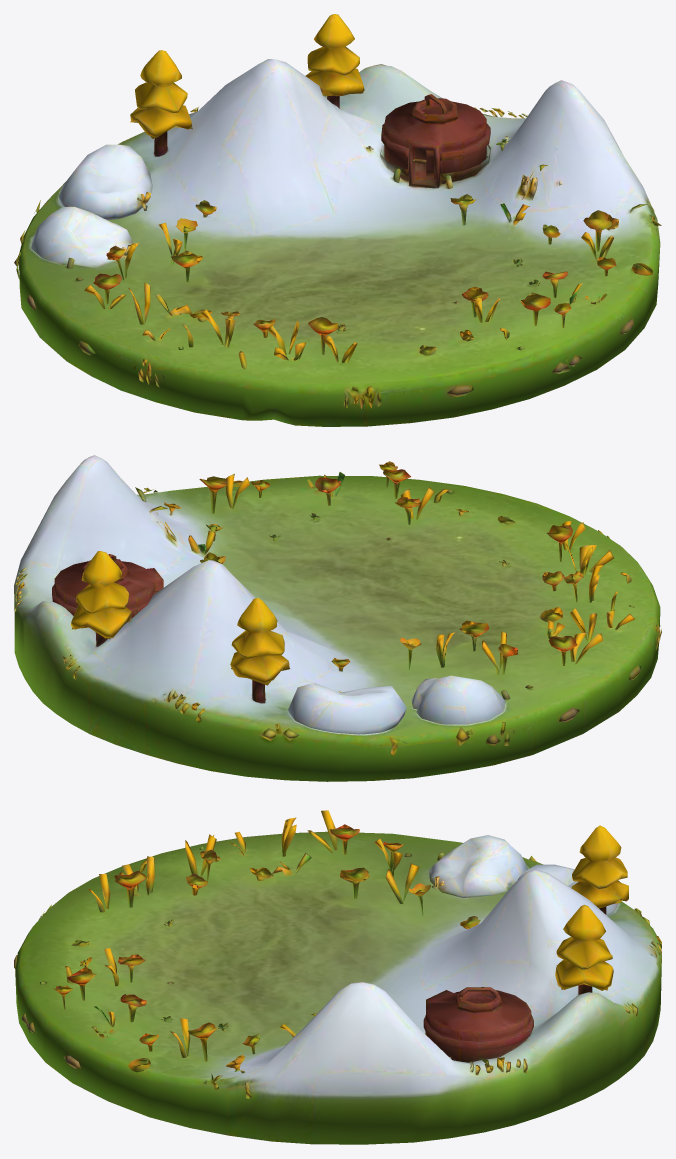
File: base-mountain.6af46c7c.glb
3 renders of one model, top to bottom at view 1: azimuth 30°, elevation 25°; view 2: azimuth 150°, elevation 25°; view 3: azimuth 270°, elevation 25°, orthographic.
Visible parts, largest first — view 1: tripo_node_f43fdade-f74d-43c1-99c8-2f2bbbf1faaa; view 2: tripo_node_f43fdade-f74d-43c1-99c8-2f2bbbf1faaa; view 3: tripo_node_f43fdade-f74d-43c1-99c8-2f2bbbf1faaa.
Part boxes in pixels (left/top/right/bottom): tripo_node_f43fdade-f74d-43c1-99c8-2f2bbbf1faaa: left=14, top=14, right=661, bottom=426; tripo_node_f43fdade-f74d-43c1-99c8-2f2bbbf1faaa: left=14, top=455, right=661, bottom=781; tripo_node_f43fdade-f74d-43c1-99c8-2f2bbbf1faaa: left=14, top=810, right=661, bottom=1144.
Size of the model in its own units: 0.998 by 0.2715 by 0.998.
Materials: 1 (1 with a texture image).
